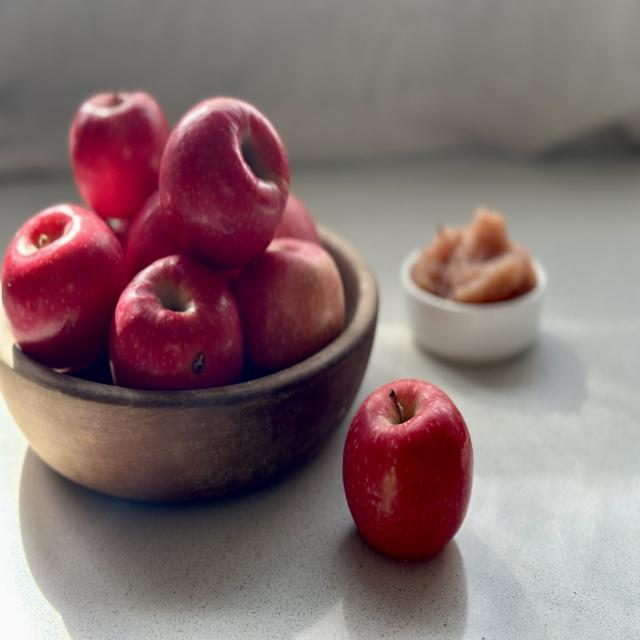manzana: (340, 373, 482, 577)
